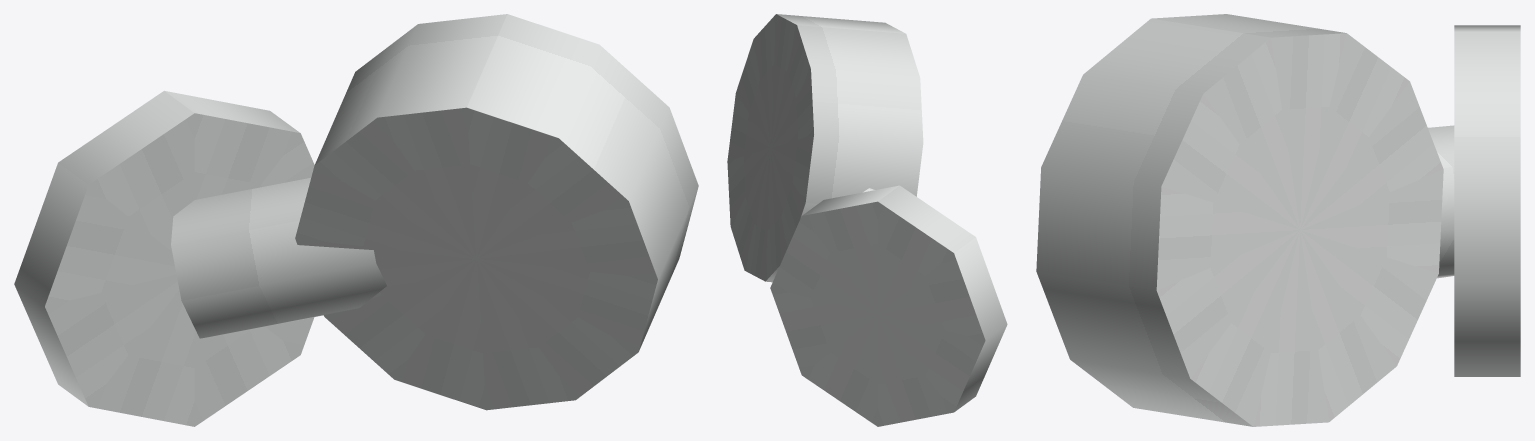
Rendered from nycsignalarm_stub_218.obj.
The picture shows the model from 3 angles, left to right: view 1: azimuth 30°, elevation 25°; view 2: azimuth 150°, elevation 25°; view 3: azimuth 270°, elevation 25°; orthographic projection. The views are drawn at different scales.
Parts seen in each view (by area): view 1: nycsignalarm_stub_218; view 2: nycsignalarm_stub_218; view 3: nycsignalarm_stub_218.
Part boxes in pixels (box(x1,y1,x2,y2)): nycsignalarm_stub_218: box(14, 14, 698, 426); nycsignalarm_stub_218: box(727, 14, 1007, 426); nycsignalarm_stub_218: box(1036, 14, 1520, 426).
Size of the model in its own units: 0.6024 by 0.4678 by 0.4531.
